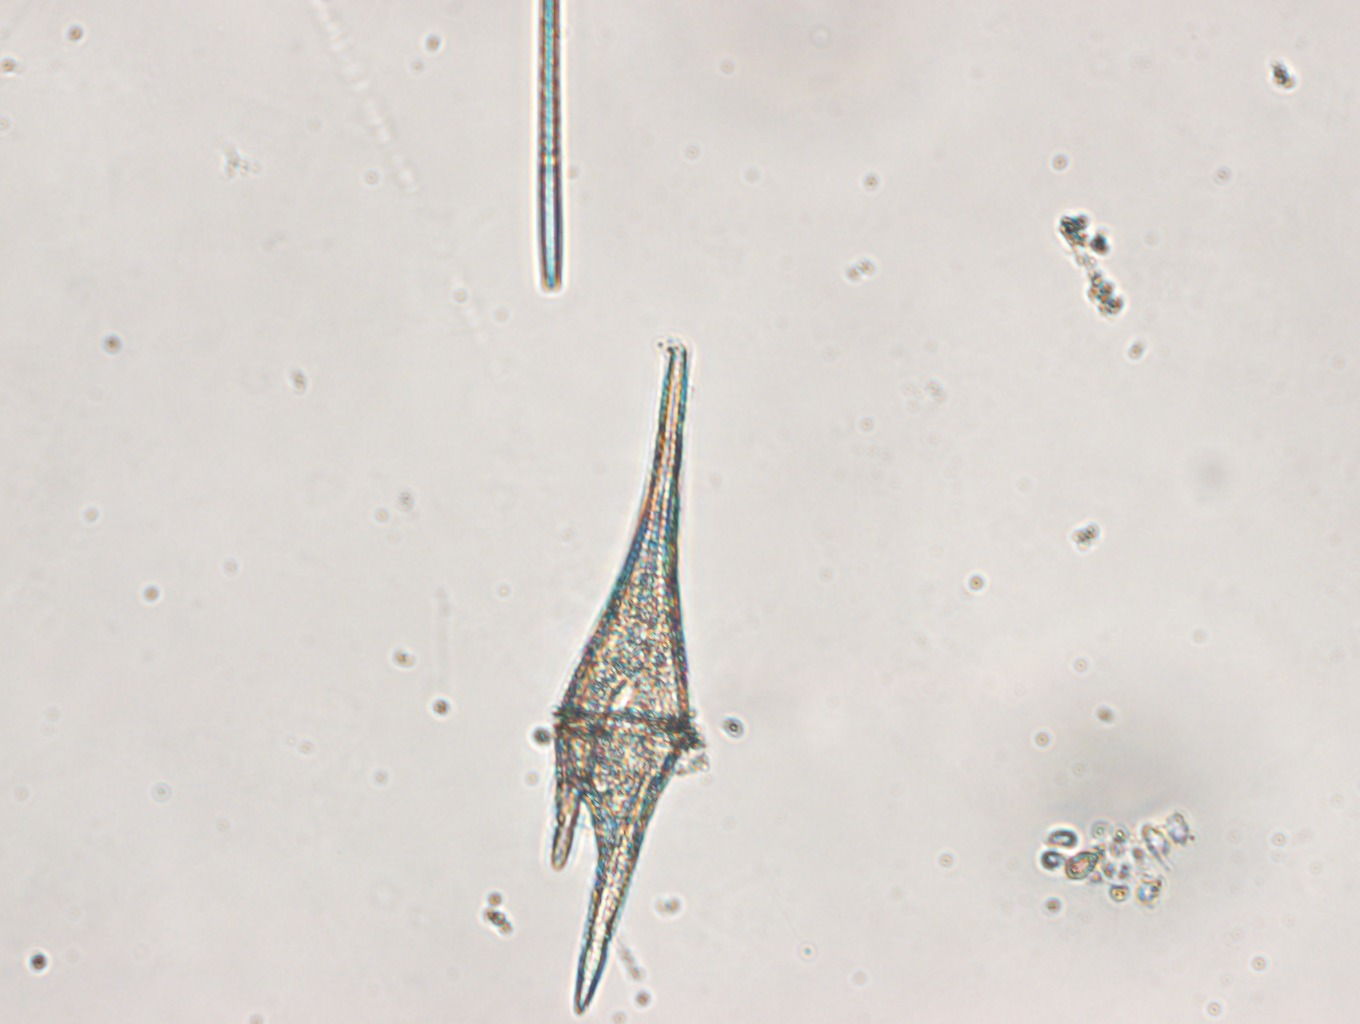ceratium furca: (550, 340, 691, 1016)
